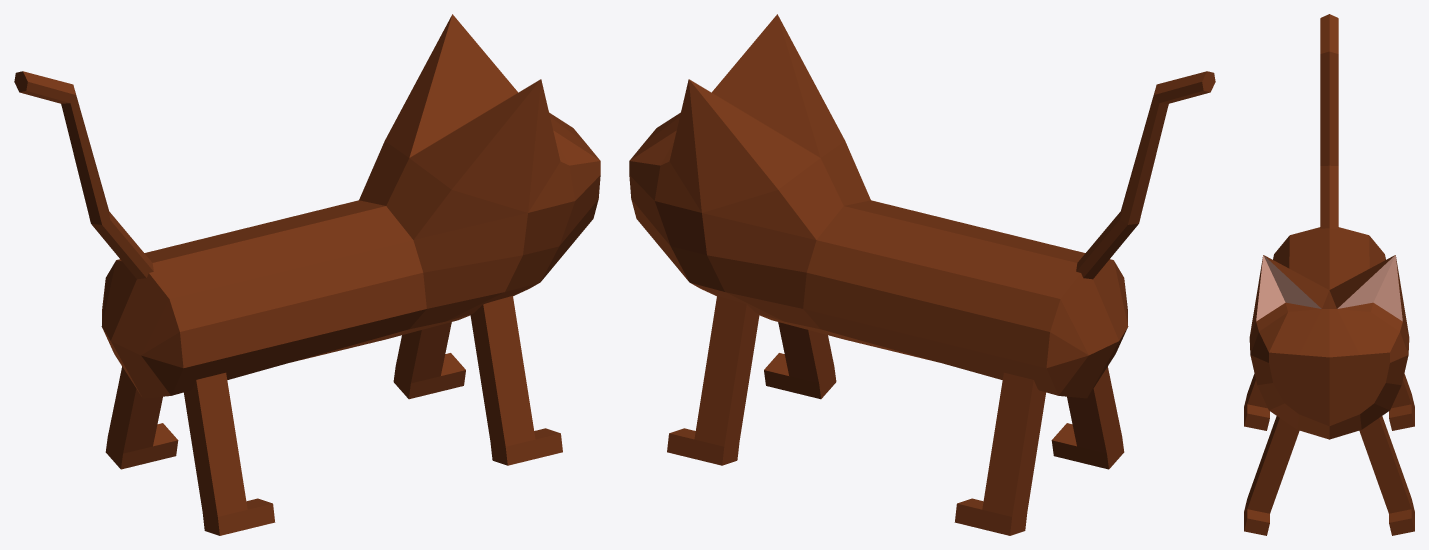
The model's file is cringe.fbx.
3 renders of one model, left to right at view 1: azimuth 30°, elevation 25°; view 2: azimuth 150°, elevation 25°; view 3: azimuth 270°, elevation 25°, orthographic. The views are drawn at different scales.
Visible parts, largest first — view 1: Plane.129; view 2: Plane.129; view 3: Plane.129.
Part boxes in pixels (left/top/right/bottom): Plane.129: left=14, top=14, right=600, bottom=535; Plane.129: left=629, top=14, right=1215, bottom=535; Plane.129: left=1244, top=14, right=1414, bottom=535.
Size of the model in its own units: 270 by 216 by 96.63.
